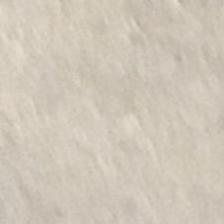Non_Crack: (30, 51, 224, 190)
